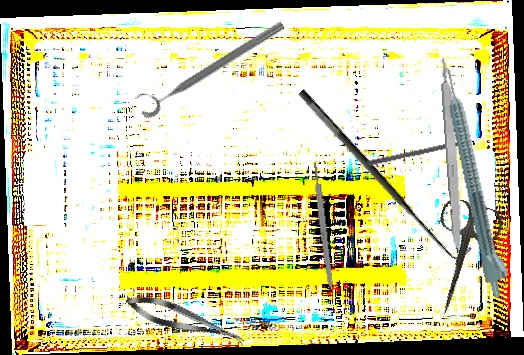Fixation Ring: (132, 9, 288, 121)
Handpiece: (440, 63, 515, 301)
Hook Surgical: (295, 76, 475, 271)
Iris Scissors: (413, 195, 507, 323)
Micro Scissor: (122, 288, 249, 353)
Pusher: (365, 135, 488, 168)
Scalpel Handle: (439, 57, 466, 254), (311, 161, 335, 288)
